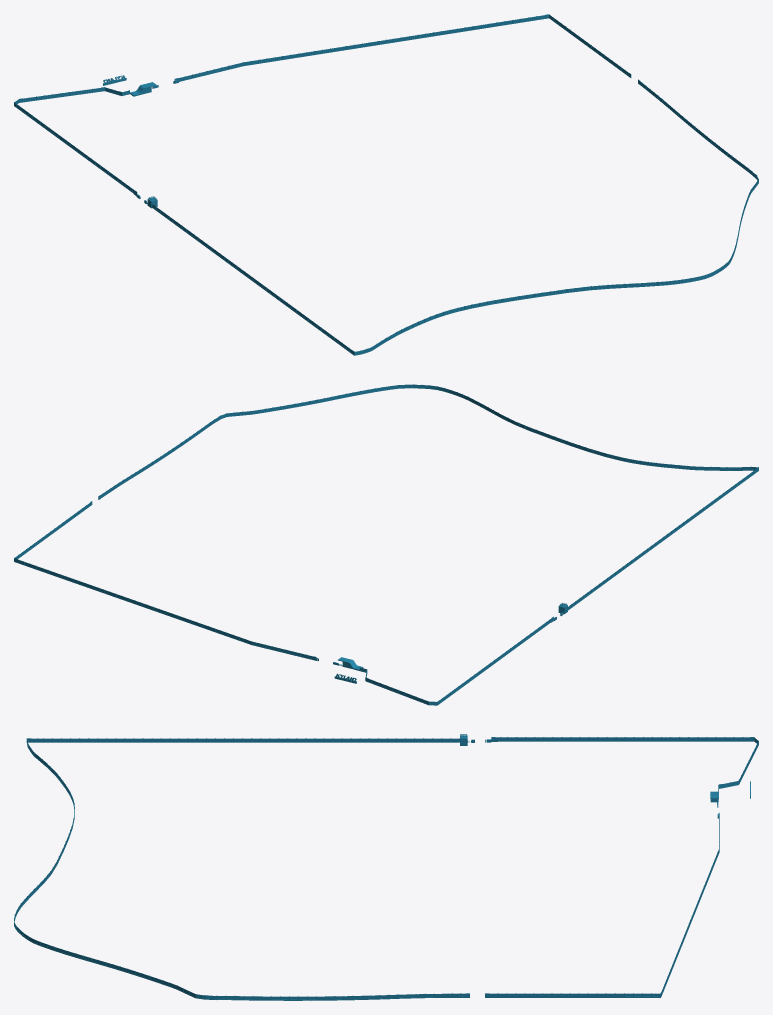
The model's file is yq_menfang.glb.
3 views of the same model, one above another, from view 1: azimuth 30°, elevation 25°; view 2: azimuth 150°, elevation 25°; view 3: azimuth 270°, elevation 25° (orthographic). The views are drawn at different scales.
Visible parts, largest first — view 1: weiqiang01, weiqiang02; view 2: weiqiang01, weiqiang02; view 3: weiqiang01, weiqiang02.
Boxes of the visible parts, box(x1,y1,x2,y2) form: weiqiang01: box(15, 15, 758, 354); weiqiang02: box(14, 14, 758, 355); weiqiang01: box(15, 384, 757, 704); weiqiang02: box(14, 384, 758, 705); weiqiang01: box(14, 737, 757, 999); weiqiang02: box(14, 737, 758, 1000).
Bounding box in the file's own units: 354 × 7.67 × 434.
